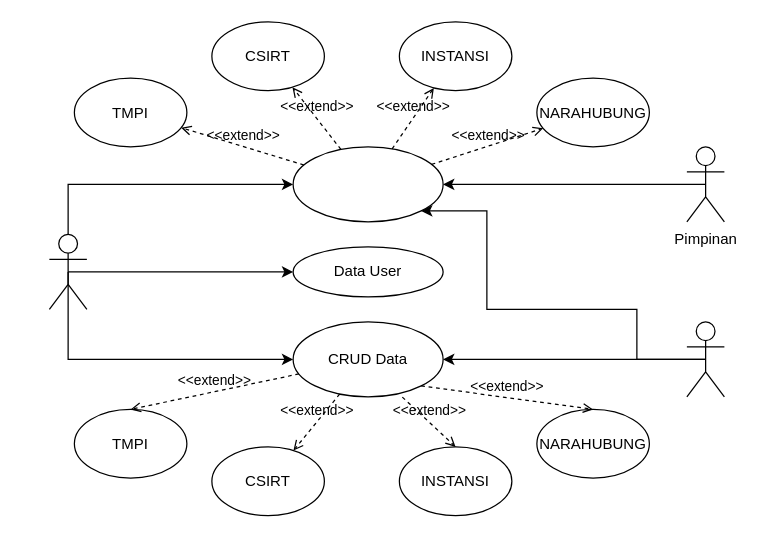
This 759x538 diagram has some shape labels left out. Each missing label, with the box of its shape:
Admin Master: (48, 233, 87, 309)
Editor: (686, 321, 724, 397)
View Data: (292, 146, 443, 222)
